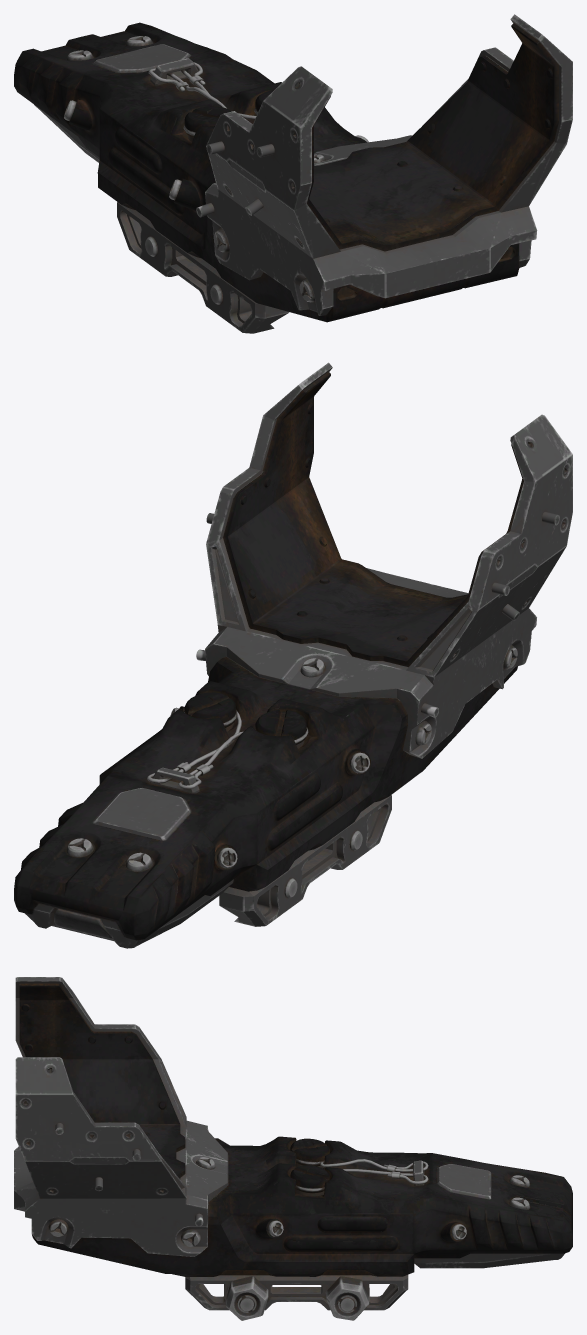
File: Sight_12.glb
The picture shows the model from 3 angles, top to bottom: view 1: azimuth 30°, elevation 25°; view 2: azimuth 150°, elevation 25°; view 3: azimuth 270°, elevation 25°; orthographic projection. The views are drawn at different scales.
Parts seen in each view (by area): view 1: Sight_12; view 2: Sight_12; view 3: Sight_12.
Boxes of the visible parts, x1=… form: Sight_12: x1=14, y1=14, x2=572, y2=333; Sight_12: x1=14, y1=362, x2=572, y2=948; Sight_12: x1=14, y1=977, x2=572, y2=1320.
Bounding box in the file's own units: 0.0642 × 0.0723 × 0.1353.
Materials: 1 (1 with a texture image).
